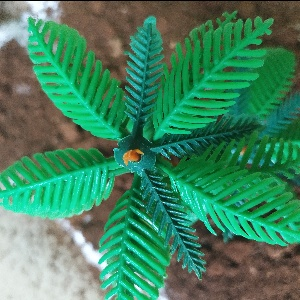plant: (9, 11, 300, 293)
